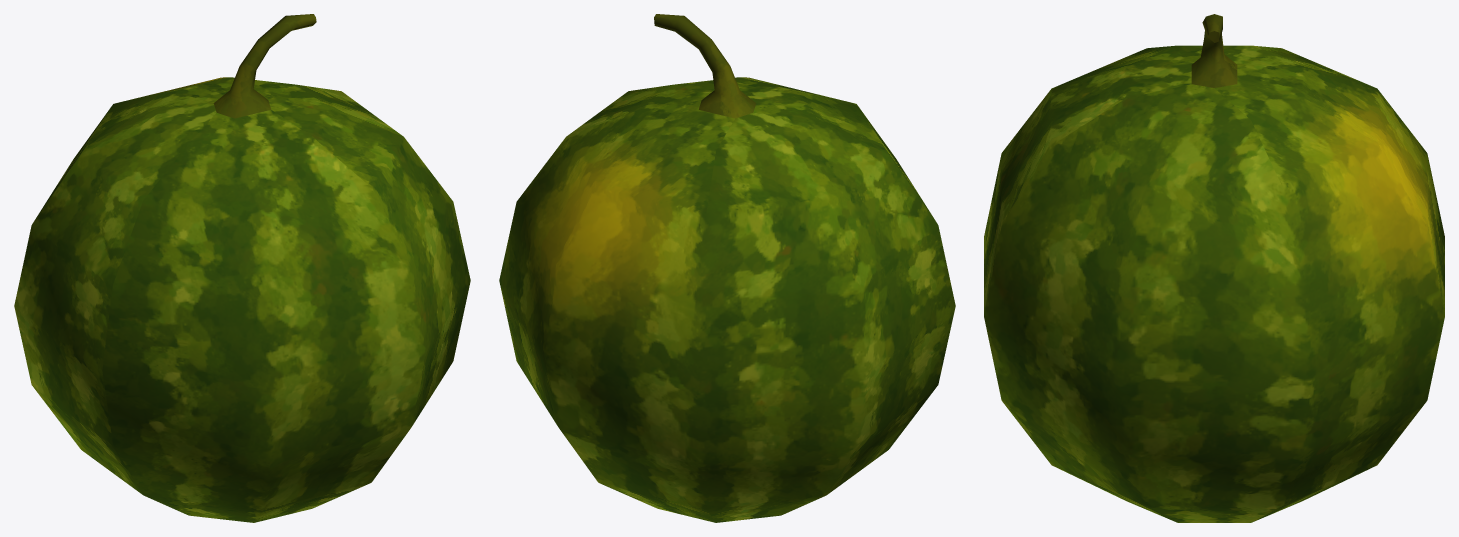
File: Vegetables01_1.FBX
The picture shows the model from 3 angles, left to right: view 1: azimuth 30°, elevation 25°; view 2: azimuth 150°, elevation 25°; view 3: azimuth 270°, elevation 25°; orthographic projection. The views are drawn at different scales.
Parts seen in each view (by area): view 1: Vegetables01_1; view 2: Vegetables01_1; view 3: Vegetables01_1.
Part boxes in pixels (x1,y1,x2,y2): Vegetables01_1: (14,14,470,522); Vegetables01_1: (499,14,955,522); Vegetables01_1: (984,14,1444,522).
Size of what is drawn, in the model's own units: 0.3942 by 0.4749 by 0.3942.
